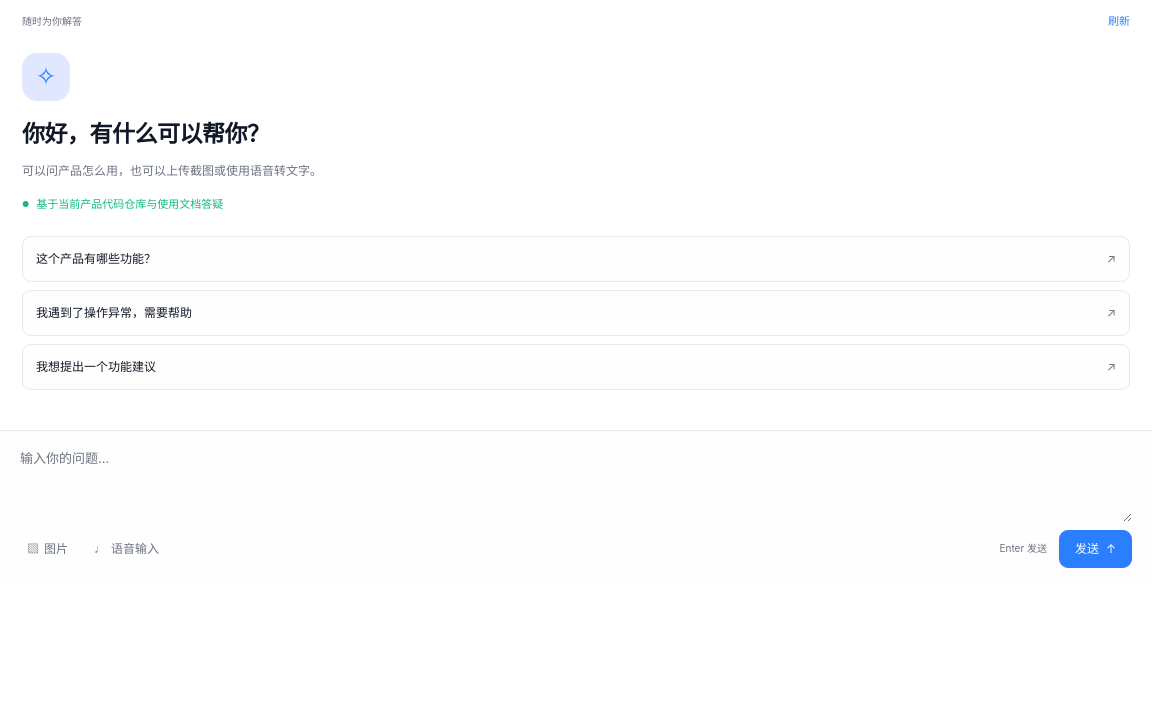
Scenario: AgentChatPanel 低置信上报 › 高置信时不触发上报
Type "一个能被解决的问题" into the text box with placeholder "输入你的问题...". click: (576, 483)
box: x1=20 y1=444 x2=1132 y2=522
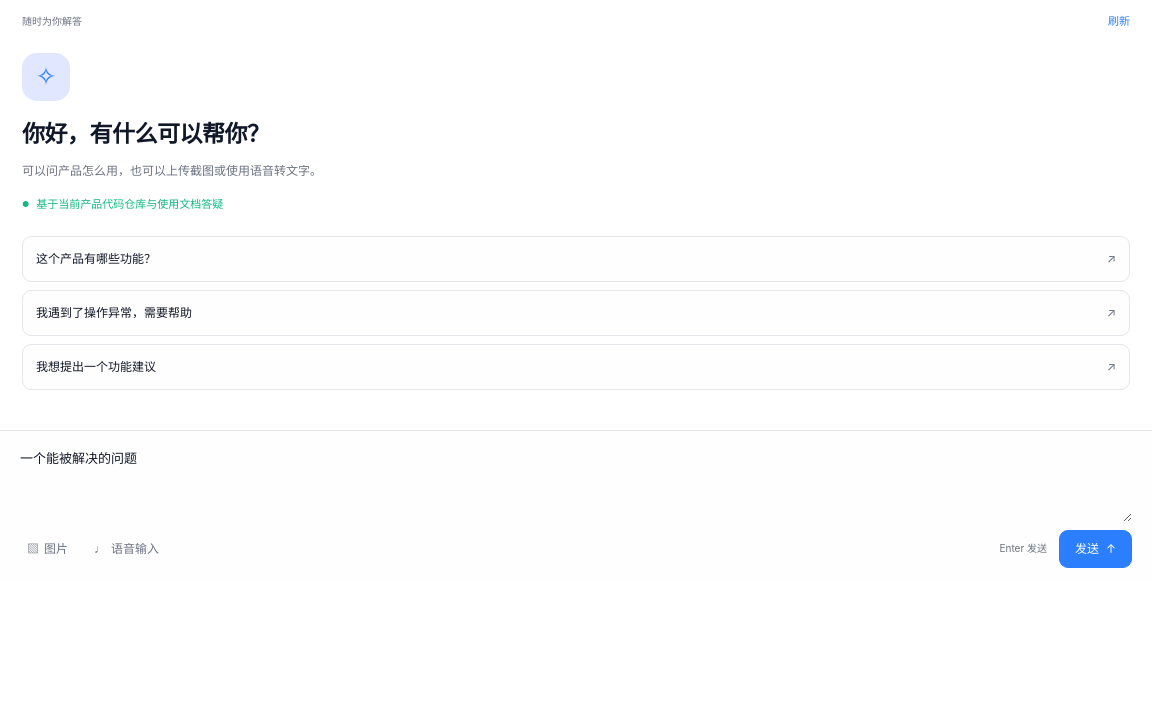
Press Enter in the text box with placeholder "输入你的问题...", box x1=20 y1=444 x2=1132 y2=522
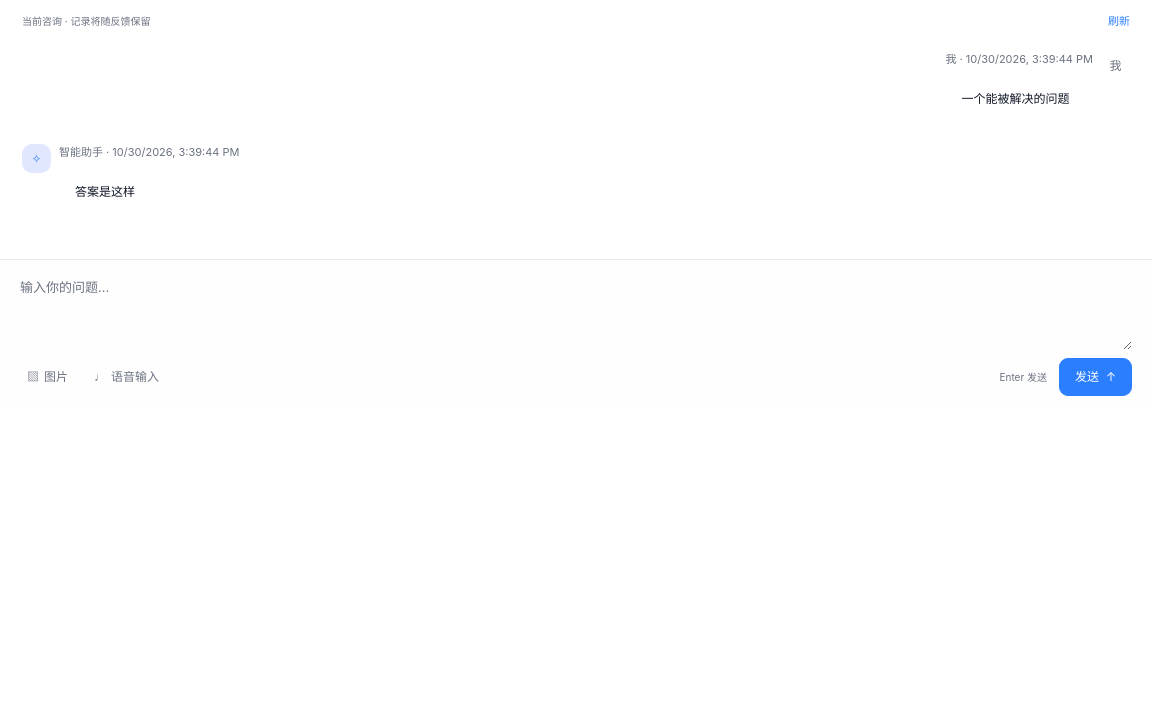
Now the text "答案是这样" is shown, box x1=75 y1=184 x2=135 y2=199
